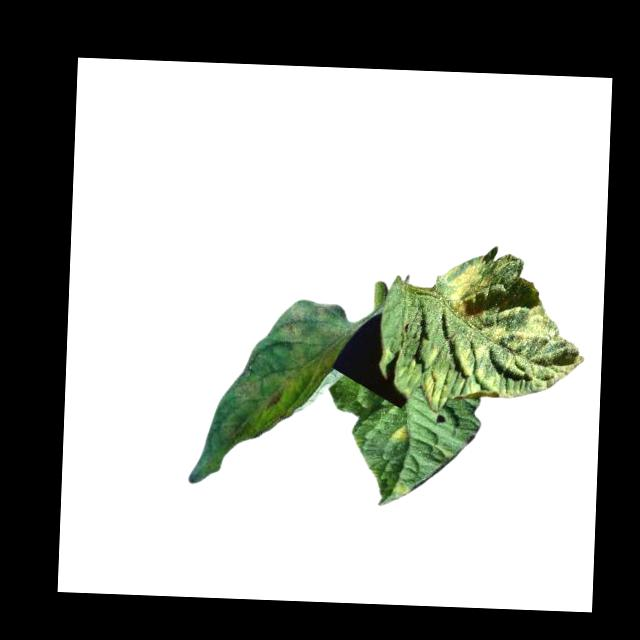Leaf_Mold: (419, 242, 582, 415), (282, 298, 346, 406), (389, 424, 411, 446)
